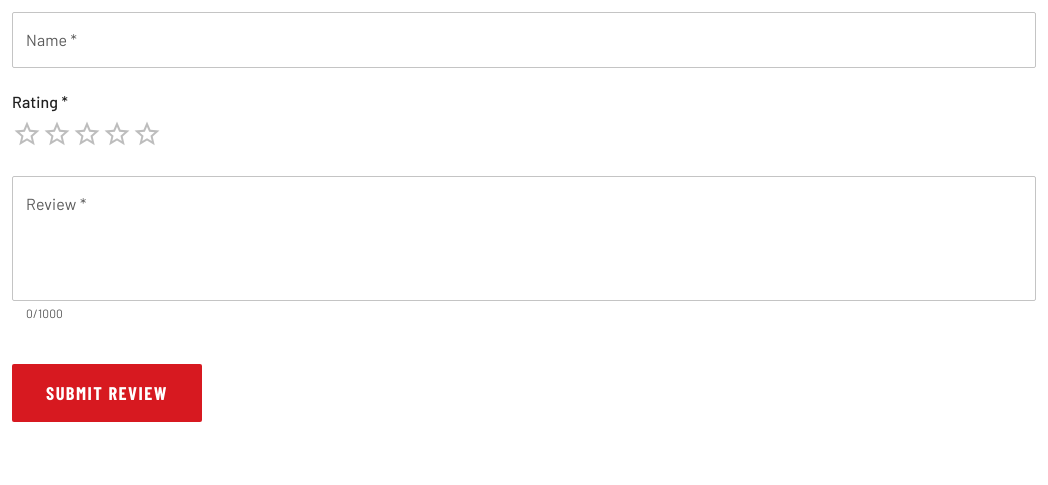
Test: ReviewForm › validates all fields before submitting
Click the button "Submit Review" at (107, 393), box x1=12 y1=364 x2=202 y2=422
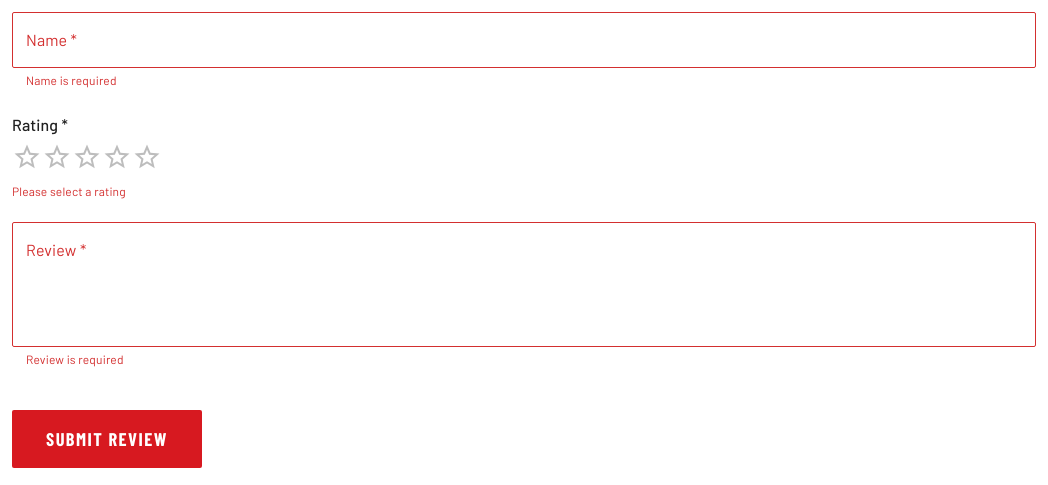
expect the text "Name is required" is shown: met, box x1=26 y1=73 x2=117 y2=87
expect the text "Please select a rating" is shown: met, box x1=12 y1=184 x2=126 y2=198
expect the text "Review is required" is shown: met, box x1=26 y1=352 x2=124 y2=366
